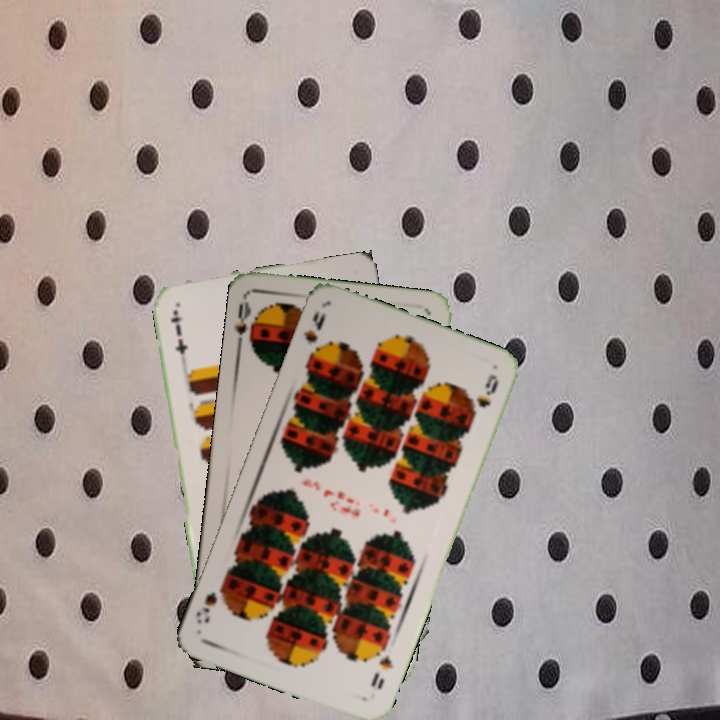E7: (166, 306, 190, 358)
S9: (299, 307, 328, 363), (366, 650, 396, 692)
SO: (231, 294, 260, 355)
